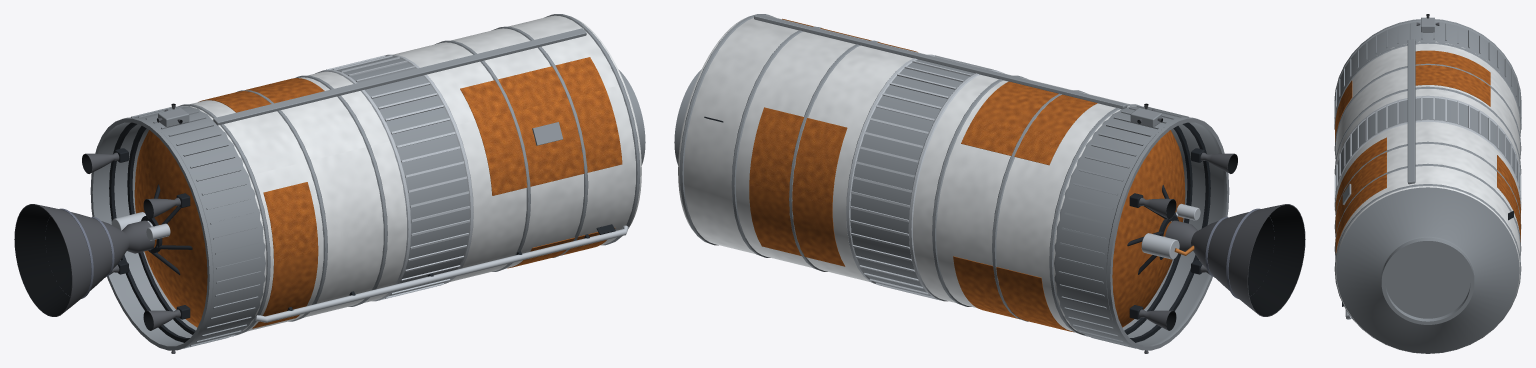
The model's file is rocketbody.glb.
3 views of the same model, side by side, from view 1: azimuth 30°, elevation 25°; view 2: azimuth 150°, elevation 25°; view 3: azimuth 270°, elevation 25° (orthographic). The views are drawn at different scales.
Parts seen in each view (by area): view 1: rocketbody_body; view 2: rocketbody_body; view 3: rocketbody_body.
Part boxes in pixels (left/top/right/bottom): rocketbody_body: left=14, top=14, right=645, bottom=353; rocketbody_body: left=674, top=14, right=1305, bottom=353; rocketbody_body: left=1334, top=14, right=1521, bottom=353.
Size of the model in its own units: 11 by 4.56 by 3.96.
9 materials, 2 textured.
